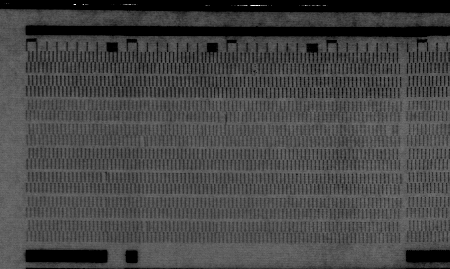Broken hole: (382, 123, 396, 138), (217, 111, 228, 124), (250, 62, 260, 76)
Oblique printing: (99, 171, 111, 186), (137, 135, 149, 148), (139, 219, 152, 231)
